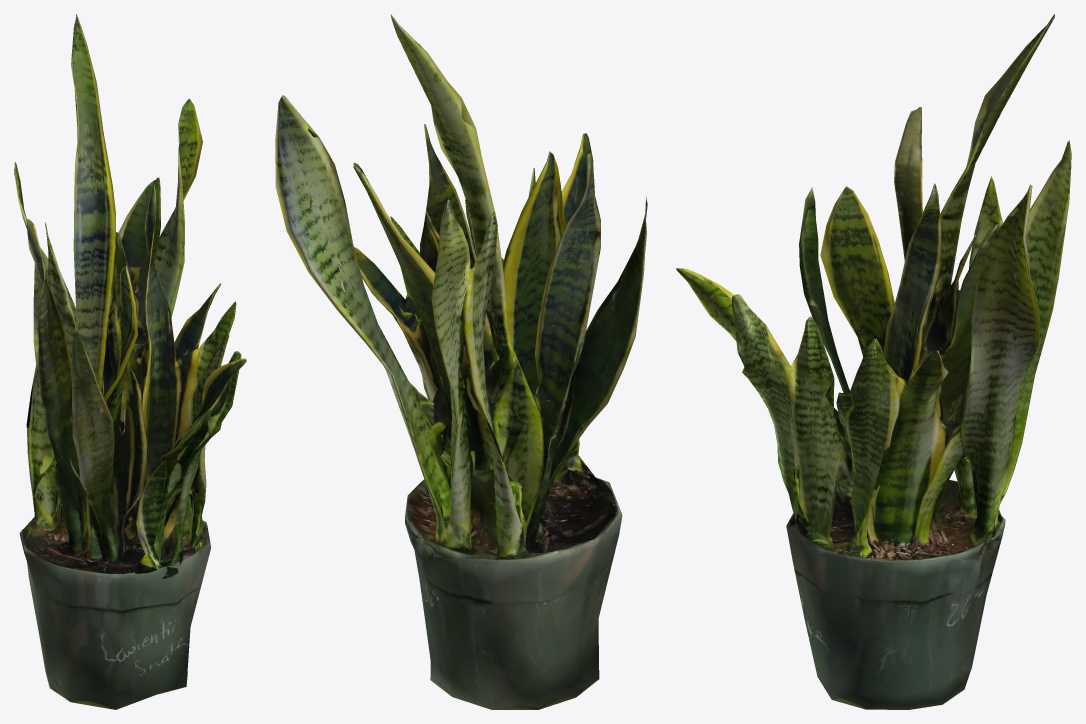
File: snake-plant.glb
3 views of the same model, side by side, from view 1: azimuth 30°, elevation 25°; view 2: azimuth 150°, elevation 25°; view 3: azimuth 270°, elevation 25° (orthographic). The views are drawn at different scales.
Visible parts, largest first — view 1: Snakeplant_snakeplant_0; view 2: Snakeplant_snakeplant_0; view 3: Snakeplant_snakeplant_0.
Boxes of the visible parts, left/top/right/bottom form: Snakeplant_snakeplant_0: left=14, top=14, right=246, bottom=709; Snakeplant_snakeplant_0: left=275, top=14, right=647, bottom=709; Snakeplant_snakeplant_0: left=676, top=14, right=1071, bottom=709.
Size of the model in its own units: 0.5192 by 1.33 by 0.6997.
Materials: 1 (1 with a texture image).
